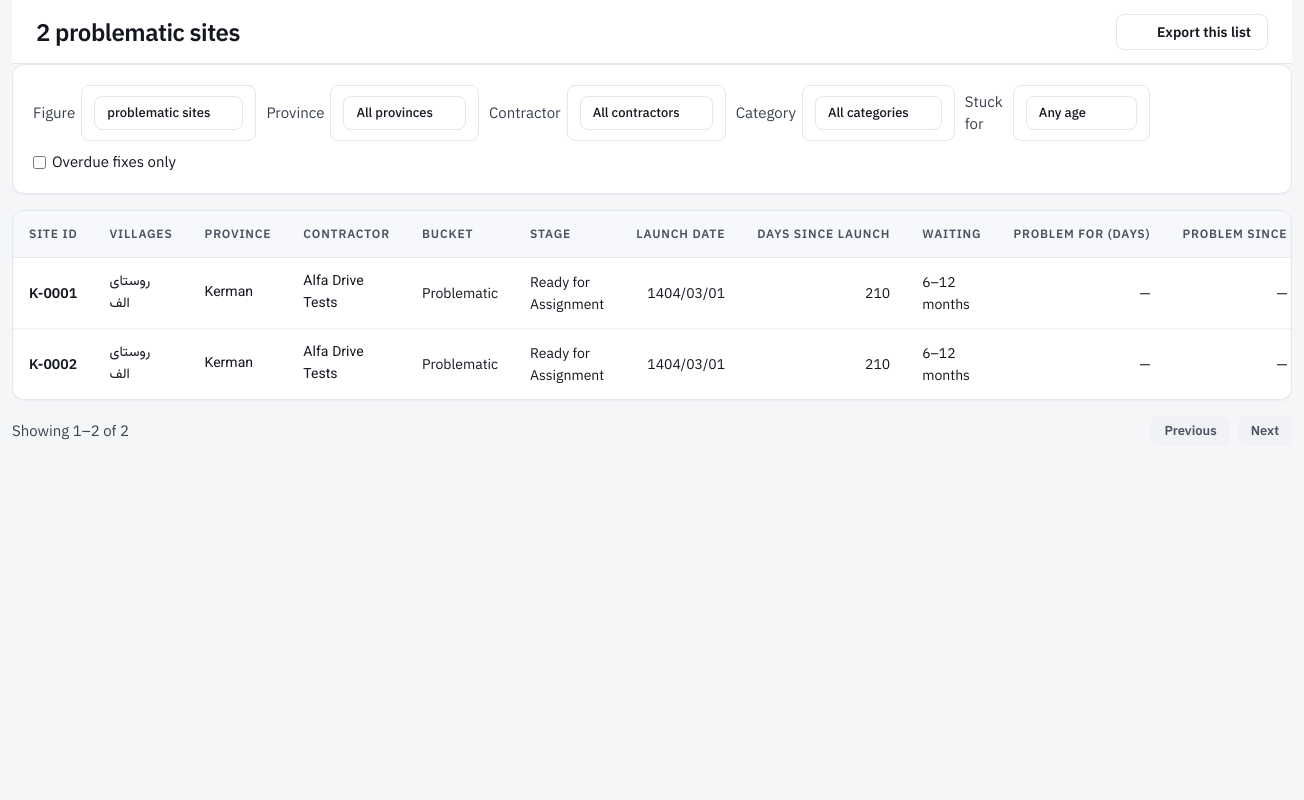
Scenario: the export › tells the reader why the export failed, not just that it did
The image size is (1304, 800).
Expected: the button "K-0001" is shown, [29, 282, 77, 304]
Click the button "Export this list": (1192, 32) [1116, 14, 1268, 50]
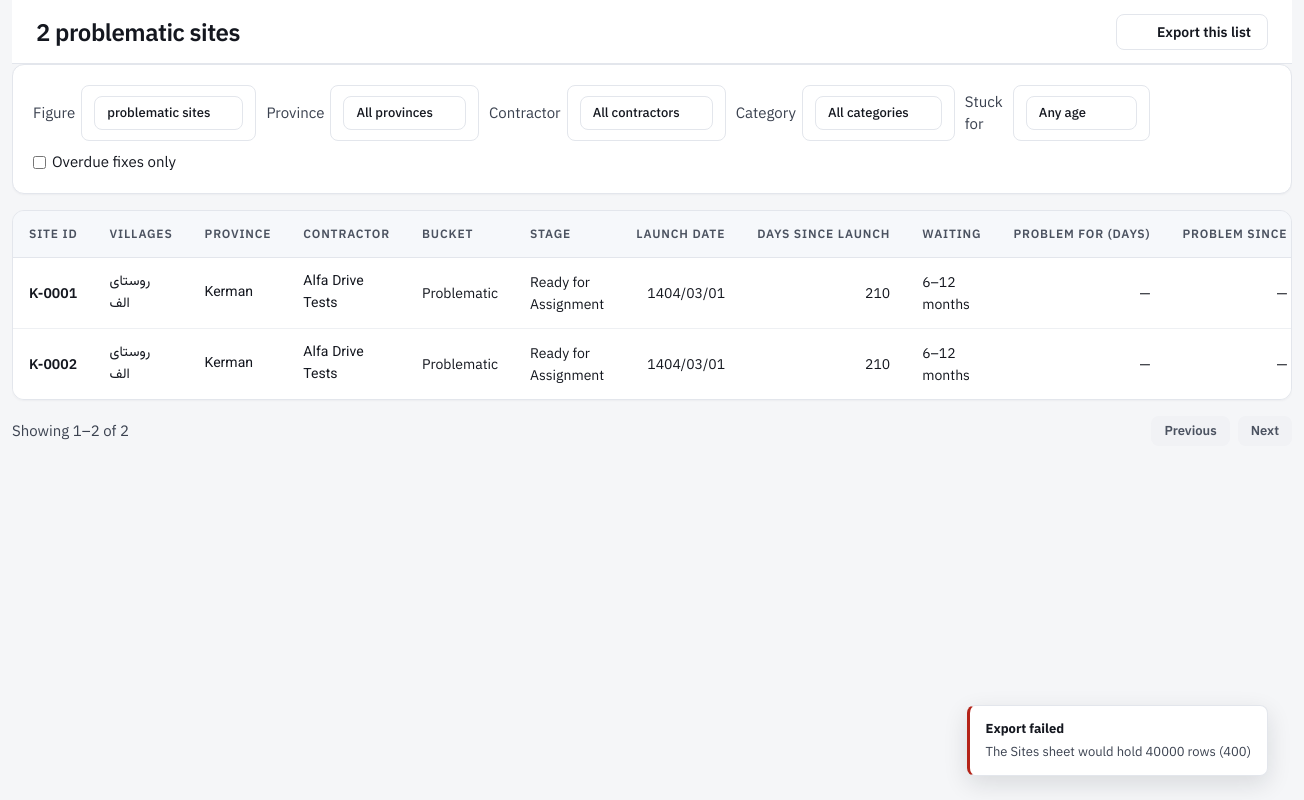
Result: the text "The Sites sheet would hold 40000 rows (400)" is shown at [986, 743, 1251, 760]
